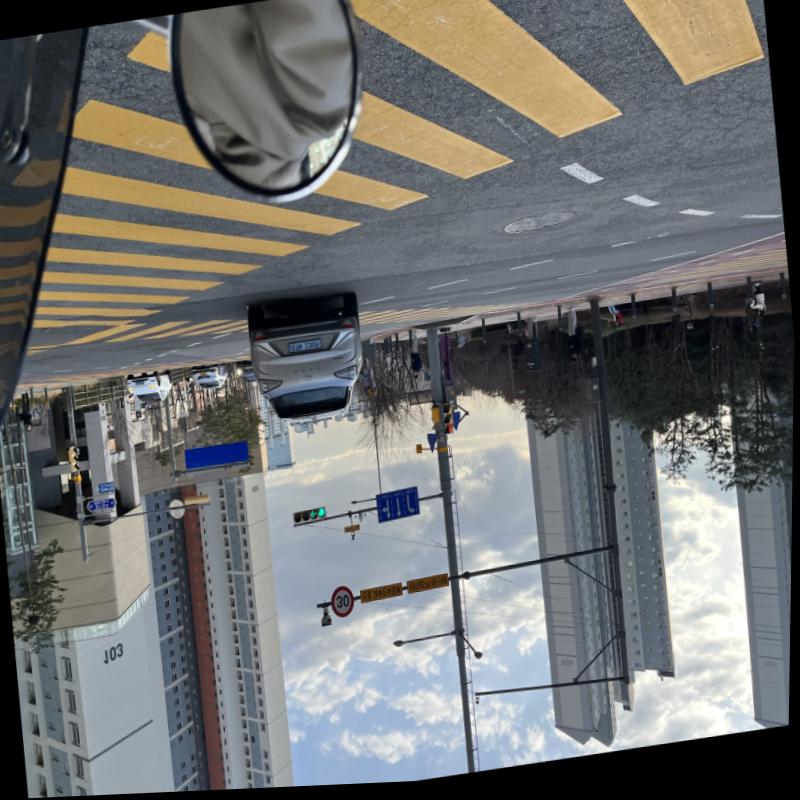green: (319, 510, 327, 521)
left: (311, 512, 319, 521)
